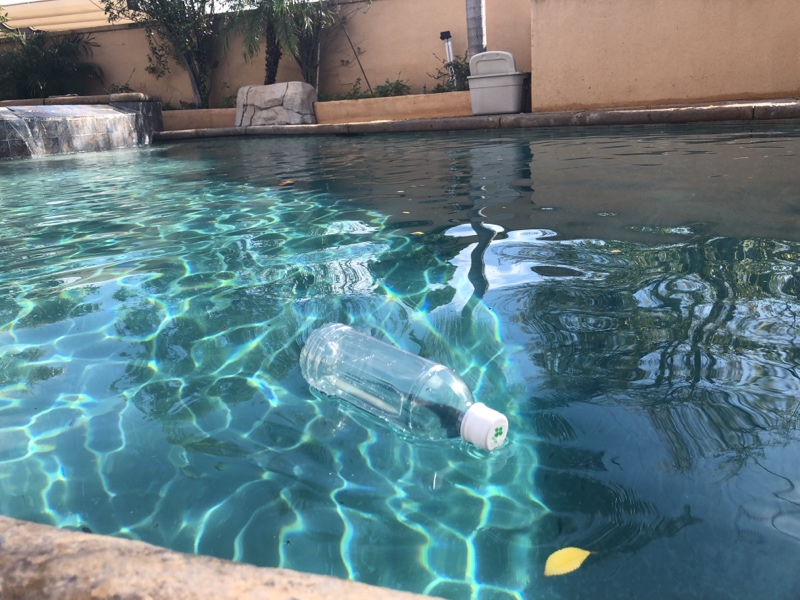Plastic Bottle: (292, 318, 512, 457)
